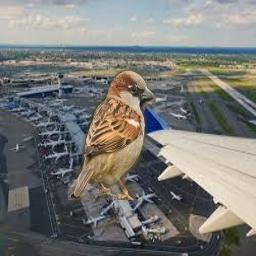Sparrow: (68, 70, 156, 200)
